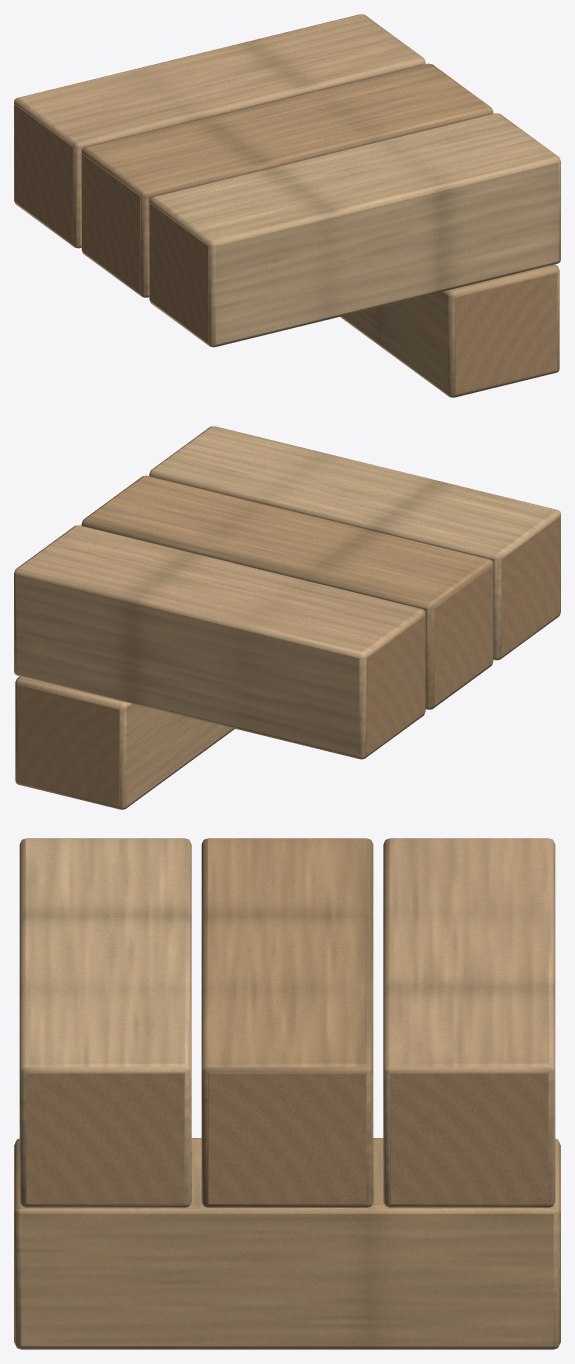
Rendered from 5-crossed-block-layers-2-2.fbx.
3 views of the same model, one above another, from view 1: azimuth 30°, elevation 25°; view 2: azimuth 150°, elevation 25°; view 3: azimuth 270°, elevation 25° (orthographic). The views are drawn at different scales.
Visible parts, largest first — view 1: crossed-block-layers-2-2; view 2: crossed-block-layers-2-2; view 3: crossed-block-layers-2-2.
Part boxes in pixels (box(x1,y1,x2,y2)): crossed-block-layers-2-2: box(14, 14, 560, 397); crossed-block-layers-2-2: box(14, 426, 560, 809); crossed-block-layers-2-2: box(14, 838, 560, 1349).
Size of the model in its own units: 5515 by 3200 by 5515.
1 material, 1 textured.
